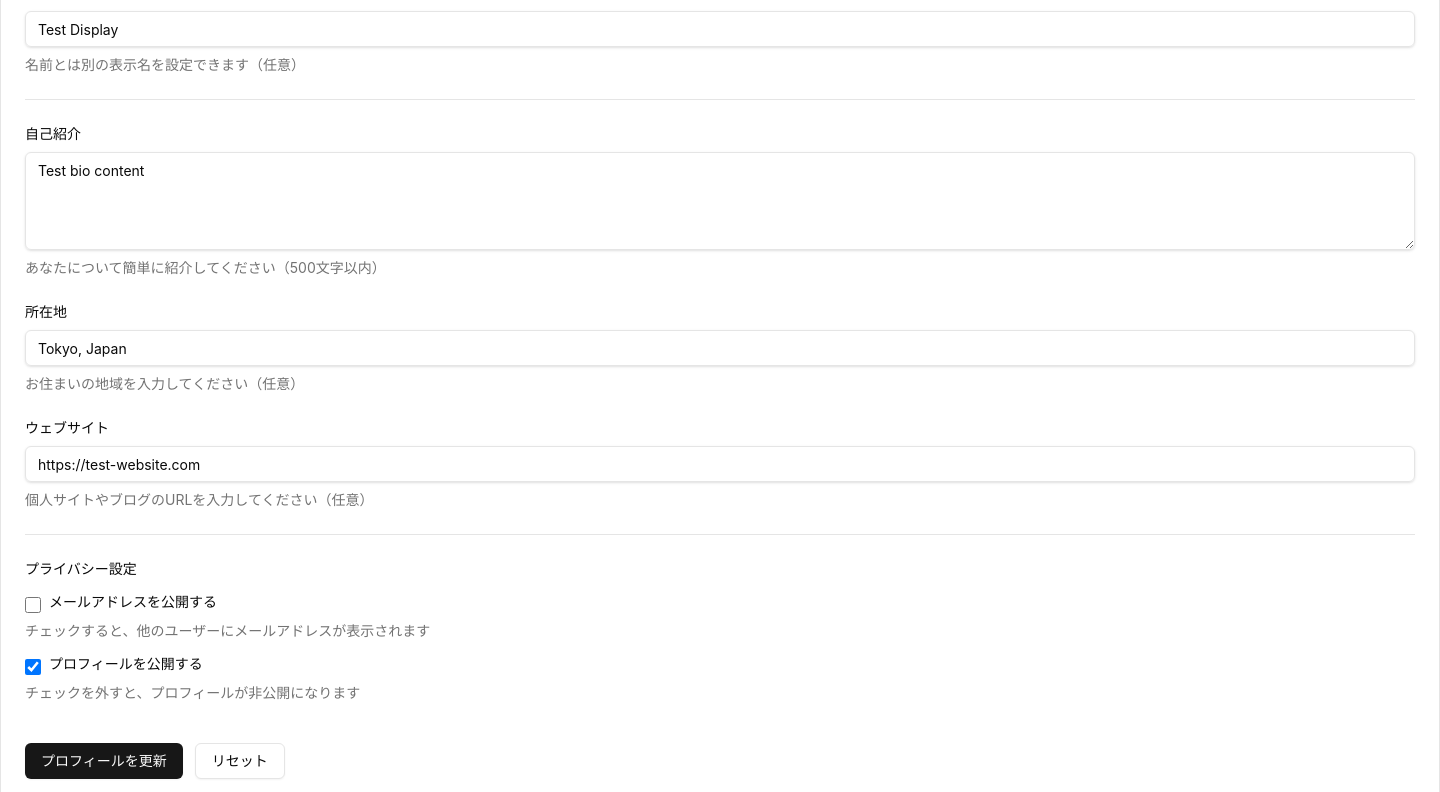
ProfileEditForm › アクセシビリティ › エラーメッセージがrole='alert'を持っている
This screenshot has width=1440, height=792.
(page scrolled)
Click the button "プロフィールを更新" at coordinates (104, 761), box left=25, top=743, right=183, bottom=779
(page scrolled)
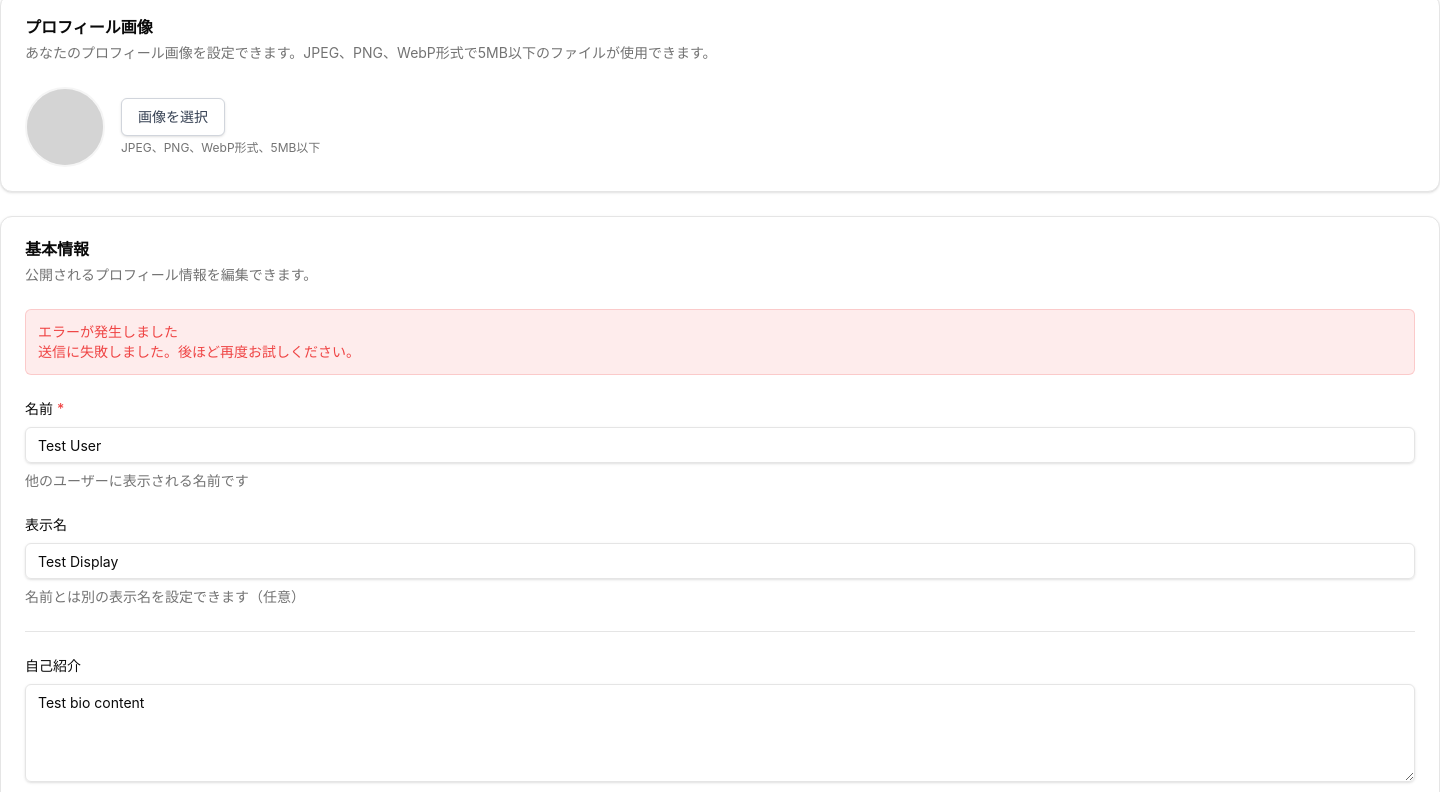
expect the message "エラーが発生しました 送信に失敗しました。後ほど再度お試しください。" is shown: met, box left=25, top=309, right=1415, bottom=375
